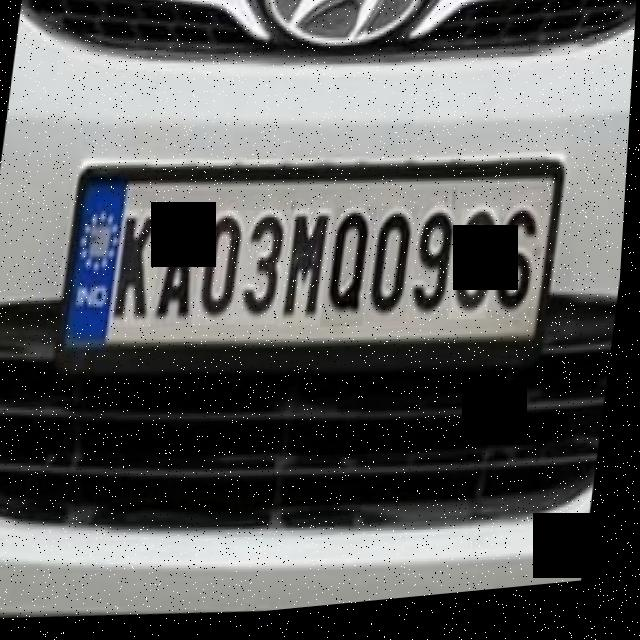0: (195, 211, 253, 333), (369, 211, 422, 332)
3: (238, 213, 295, 333)
6: (495, 211, 549, 331)
9: (452, 215, 503, 331), (413, 213, 461, 327)
A: (153, 208, 210, 334)
K: (110, 208, 168, 333)
M: (281, 211, 338, 335)
Q: (324, 211, 380, 338)
